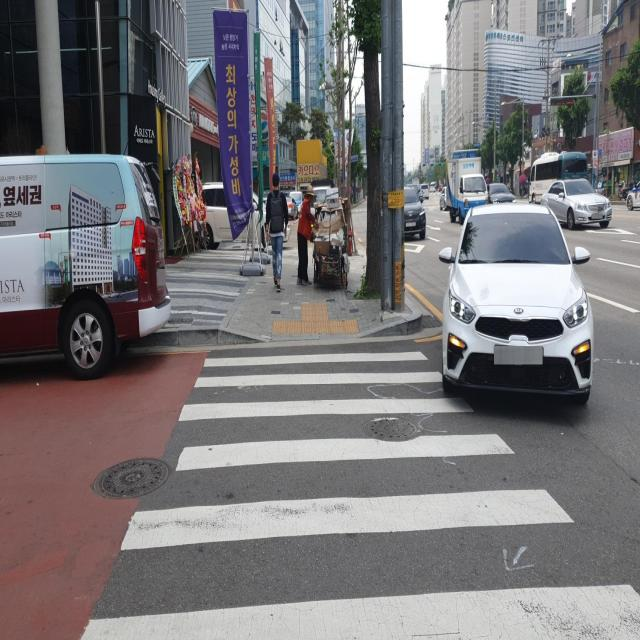횡단보도: (77, 342, 640, 640)
